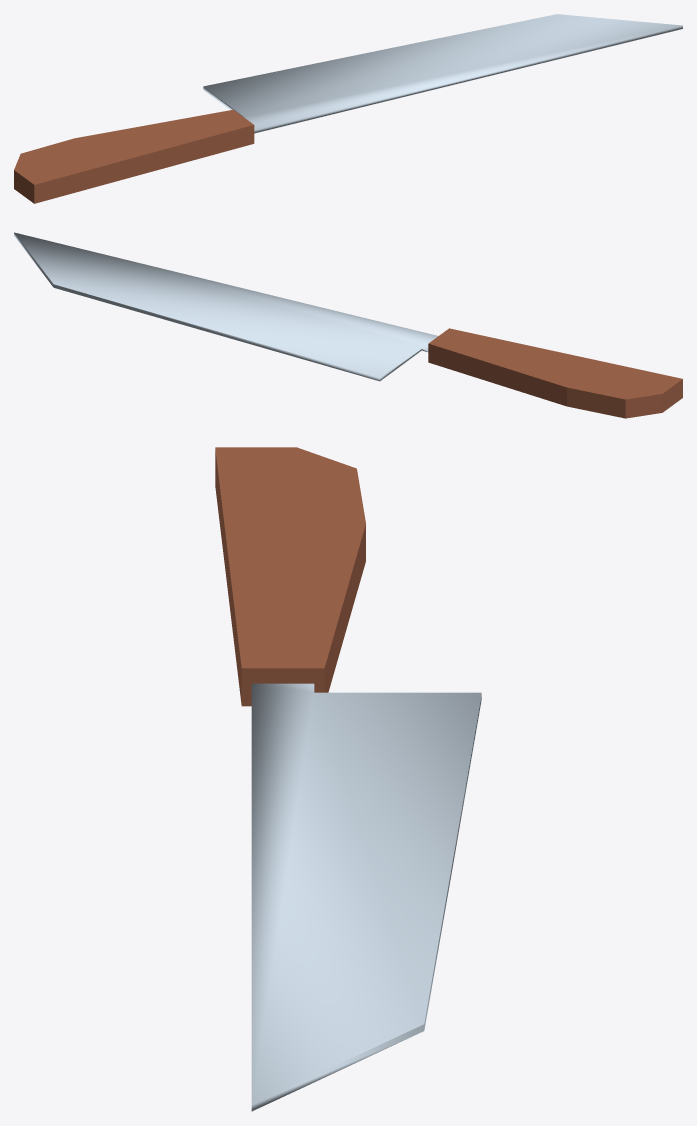
The model's file is cookingknife.obj.
3 views of the same model, one above another, from view 1: azimuth 30°, elevation 25°; view 2: azimuth 150°, elevation 25°; view 3: azimuth 270°, elevation 25° (orthographic). The views are drawn at different scales.
Visible parts, largest first — view 1: cookingKnife.001, cookingKnife; view 2: cookingKnife.001, cookingKnife; view 3: cookingKnife.001, cookingKnife.
Boxes of the visible parts, x1,y1,x2,y2 form: cookingKnife.001: (203, 14, 682, 133); cookingKnife: (14, 109, 254, 203); cookingKnife.001: (14, 232, 438, 381); cookingKnife: (428, 328, 682, 418); cookingKnife.001: (251, 683, 481, 1111); cookingKnife: (215, 447, 365, 706).
Bounding box in the file's own units: 0.7262 × 0.02 × 0.1275.
